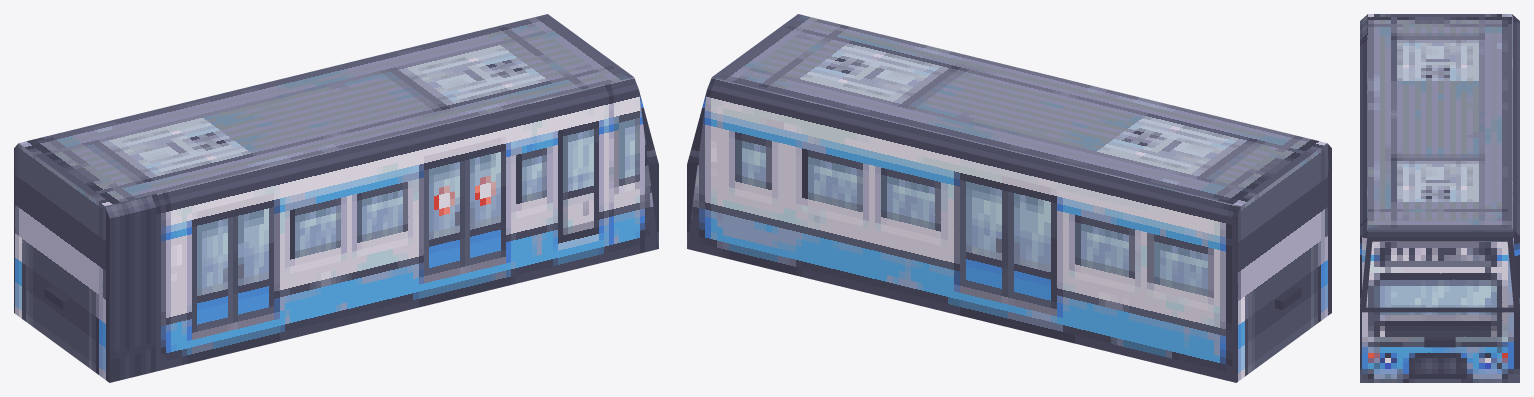
The model's file is blue-rear-v3.glb.
The picture shows the model from 3 angles, left to right: view 1: azimuth 30°, elevation 25°; view 2: azimuth 150°, elevation 25°; view 3: azimuth 270°, elevation 25°; orthographic projection. The views are drawn at different scales.
Parts seen in each view (by area): view 1: Skirt-west, Roof, Negative-end-upper, Negative-end-lower, Roof-shoulder-west, Positive-end-corner--1; view 2: Skirt-east, Roof, Negative-end-upper, Negative-end-lower, Roof-shoulder-east, Positive-end-corner-1; view 3: Roof, Positive-end-lower, Positive-end-windscreen-glass, Positive-end-windscreen-frame, Roof-shoulder-east, Roof-shoulder-west, Positive-end-roof, Coupler-head-positive, Positive-end-corner-1, Positive-end-corner--1.
Part boxes in pixels (x1=…): Skirt-west: x1=109, y1=89, x2=658, y2=382; Roof: x1=19, y1=14, x2=633, y2=205; Negative-end-upper: x1=14, y1=143, x2=109, y2=297; Negative-end-lower: x1=14, y1=228, x2=109, y2=382; Roof-shoulder-west: x1=105, y1=77, x2=638, y2=217; Positive-end-corner--1: x1=639, y1=90, x2=658, y2=247; Skirt-east: x1=687, y1=89, x2=1236, y2=382; Roof: x1=712, y1=14, x2=1326, y2=205; Negative-end-upper: x1=1236, y1=143, x2=1331, y2=297; Negative-end-lower: x1=1236, y1=228, x2=1331, y2=382; Roof-shoulder-east: x1=707, y1=77, x2=1240, y2=217; Positive-end-corner-1: x1=687, y1=90, x2=706, y2=247; Roof: x1=1368, y1=14, x2=1511, y2=229; Positive-end-lower: x1=1360, y1=312, x2=1519, y2=382; Positive-end-windscreen-glass: x1=1366, y1=241, x2=1513, y2=307; Positive-end-windscreen-frame: x1=1360, y1=237, x2=1519, y2=312; Roof-shoulder-east: x1=1512, y1=14, x2=1519, y2=236; Roof-shoulder-west: x1=1360, y1=14, x2=1367, y2=236; Positive-end-roof: x1=1368, y1=230, x2=1511, y2=236; Coupler-head-positive: x1=1424, y1=337, x2=1455, y2=347; Positive-end-corner-1: x1=1512, y1=230, x2=1519, y2=310; Positive-end-corner--1: x1=1360, y1=230, x2=1367, y2=310.
Bounding box in the file's own units: 140 × 44 × 41.
Materials: 1 (1 with a texture image).
